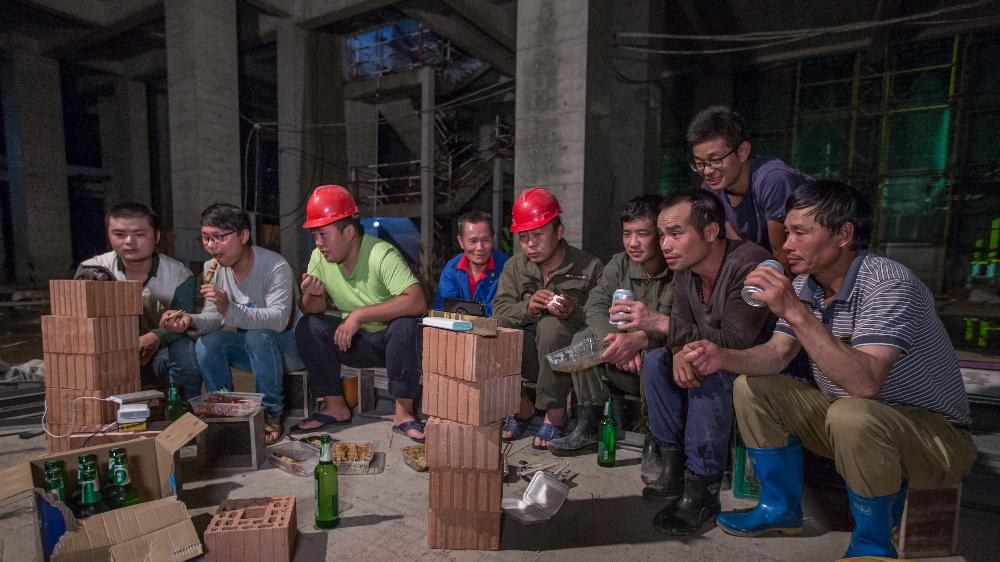helmet: (303, 186, 358, 232), (509, 191, 566, 233)
